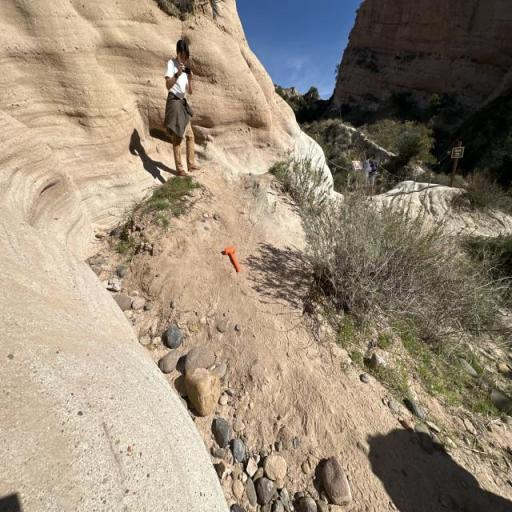mallet: (224, 246, 242, 272)
